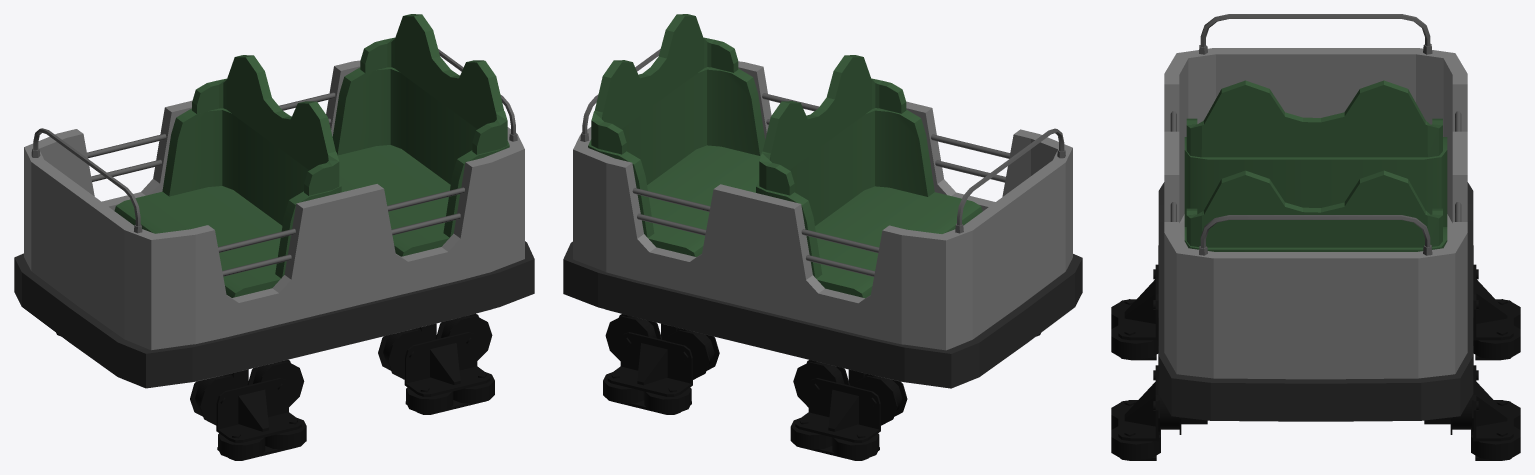
Rendered from SM_wagon_rollercoaster_02.fbx.
3 views of the same model, side by side, from view 1: azimuth 30°, elevation 25°; view 2: azimuth 150°, elevation 25°; view 3: azimuth 270°, elevation 25° (orthographic). The views are drawn at different scales.
Visible parts, largest first — view 1: Box098; view 2: Box098; view 3: Box098.
Boxes of the visible parts, <box> form: Box098: <box>14,14,534,460</box>; Box098: <box>563,14,1082,460</box>; Box098: <box>1111,14,1520,460</box>.
Bounding box in the file's own units: 116 × 77.28 × 91.84.
